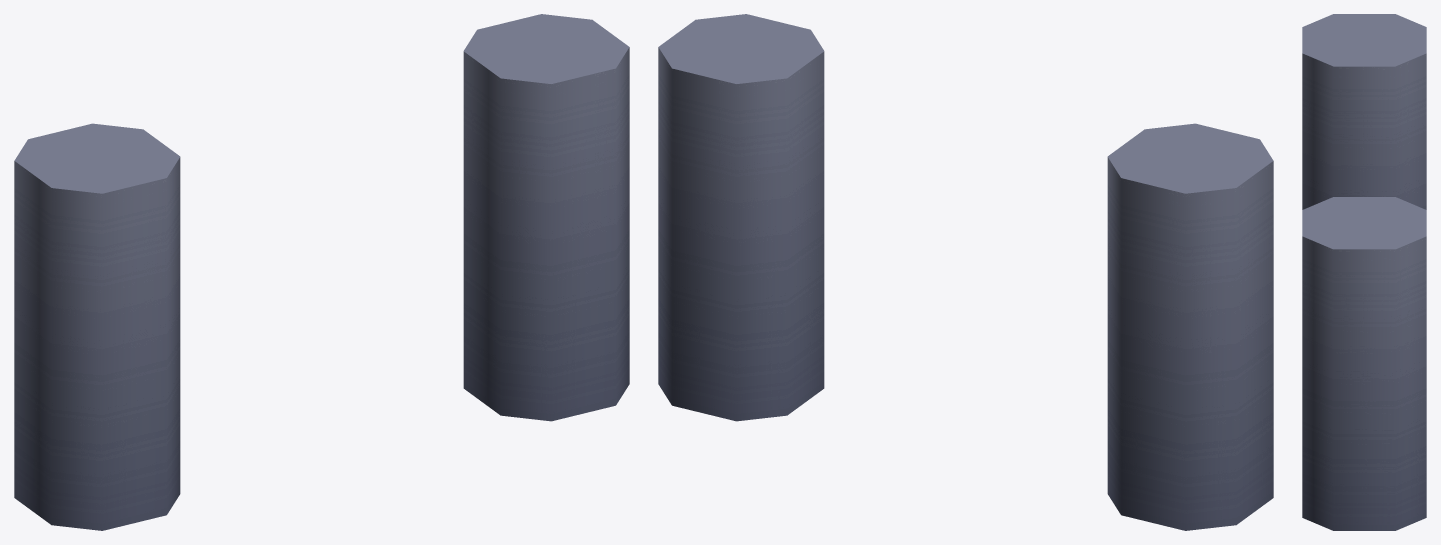
File: support-two-middle.glb
3 views of the same model, side by side, from view 1: azimuth 30°, elevation 25°; view 2: azimuth 150°, elevation 25°; view 3: azimuth 270°, elevation 25° (orthographic). The views are drawn at different scales.
Parts seen in each view (by area): view 1: support-two-middle; view 2: support-two-middle; view 3: support-two-middle.
Boxes of the visible parts, x1,y1,x2,y2 form: support-two-middle: (14,14,629,530); support-two-middle: (658,14,1273,530); support-two-middle: (1302,14,1426,530).
Bounding box in the file's own units: 0.8969 × 0.5 × 0.2.
Materials: 1 (1 with a texture image).
